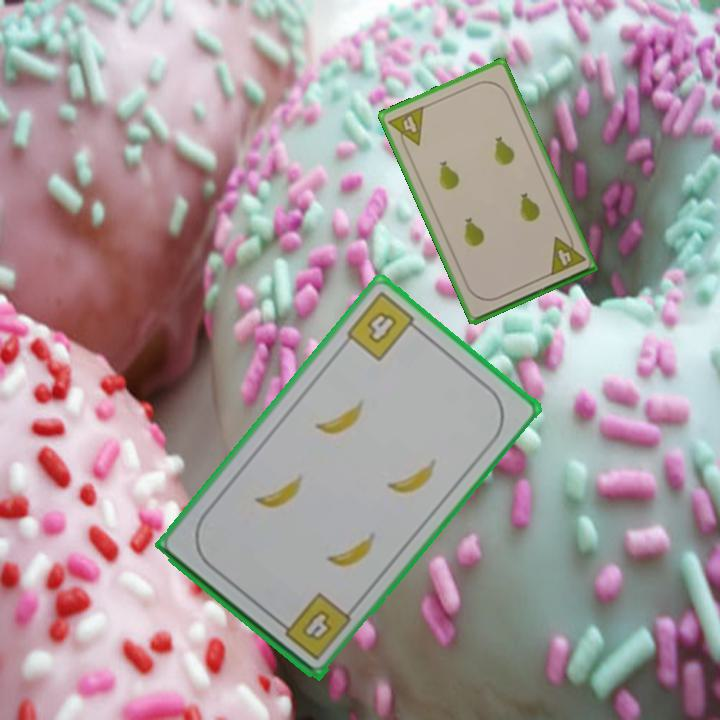4b: (342, 288, 425, 364), (273, 589, 354, 663)
4p: (384, 102, 427, 153), (546, 229, 588, 279)
